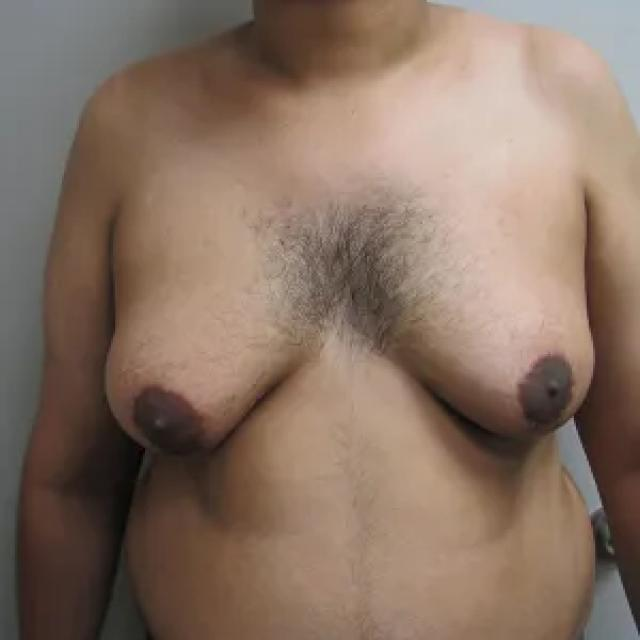Seno ileso: (97, 213, 336, 476), (350, 214, 603, 460)
